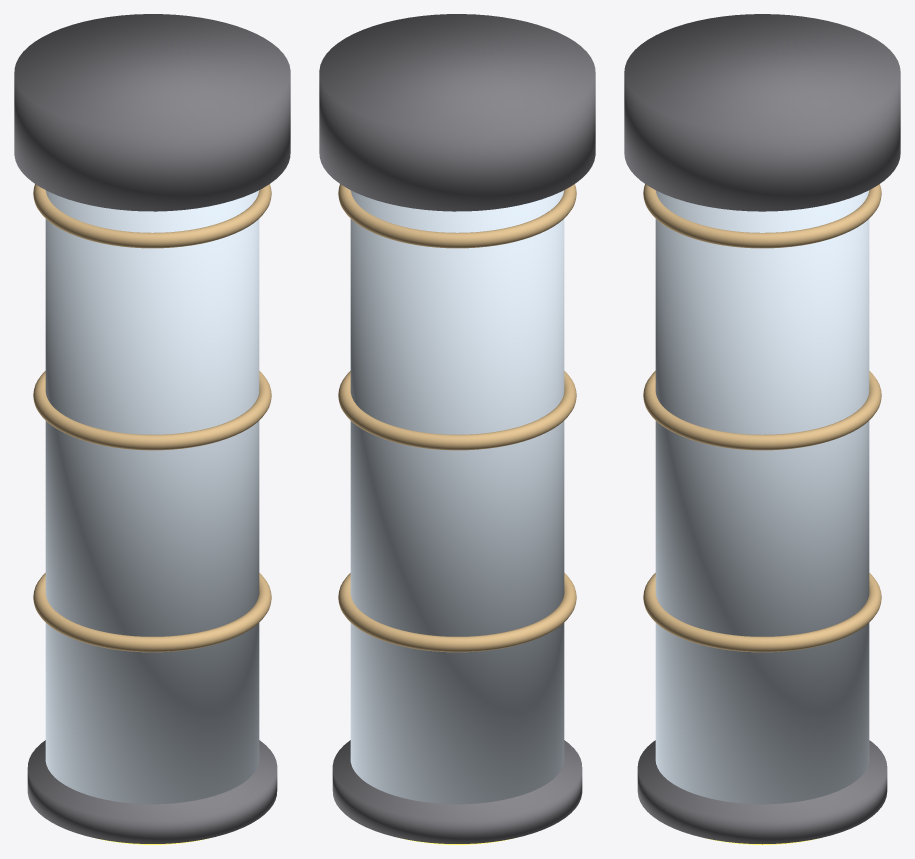
Rendered from dispenser.glb.
3 views of the same model, side by side, from view 1: azimuth 30°, elevation 25°; view 2: azimuth 150°, elevation 25°; view 3: azimuth 270°, elevation 25° (orthographic).
Parts seen in each view (by area): view 1: tube, cap, mouth, band2, band1, band0; view 2: tube, cap, mouth, band2, band1, band0; view 3: tube, cap, mouth, band2, band1, band0.
Boxes of the visible parts, x1,y1,x2,y2 form: tube: (45,190,259,804); cap: (14,14,290,211); mouth: (27,740,277,843); band2: (33,573,271,652); band1: (33,371,271,450); band0: (33,184,271,248); tube: (350,190,564,804); cap: (319,14,595,211); mouth: (332,740,582,843); band2: (338,573,576,652); band1: (338,371,576,450); band0: (338,184,576,248); tube: (655,190,869,804); cap: (624,14,900,211); mouth: (637,740,887,844); band2: (643,573,881,652); band1: (643,371,881,450); band0: (643,184,881,248).
Size of the model in its own units: 1.24 by 3.59 by 1.24.
